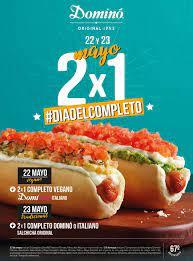Completos: (47, 126, 191, 213), (0, 148, 118, 218)
